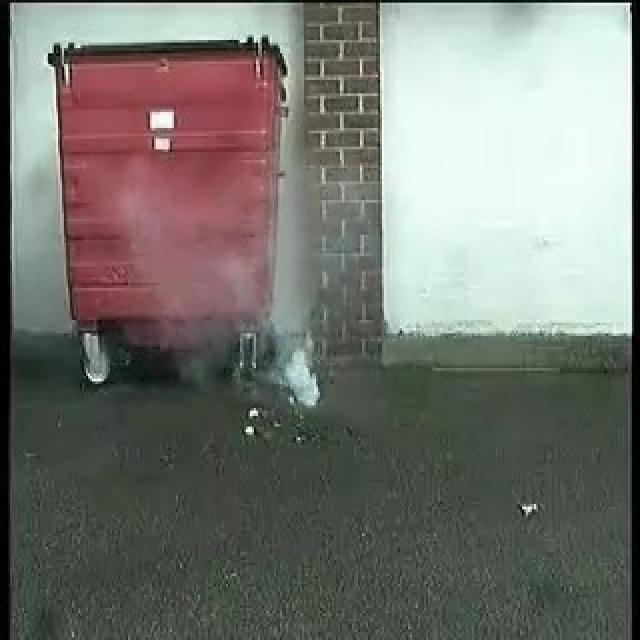smoke: (270, 220, 329, 403)
